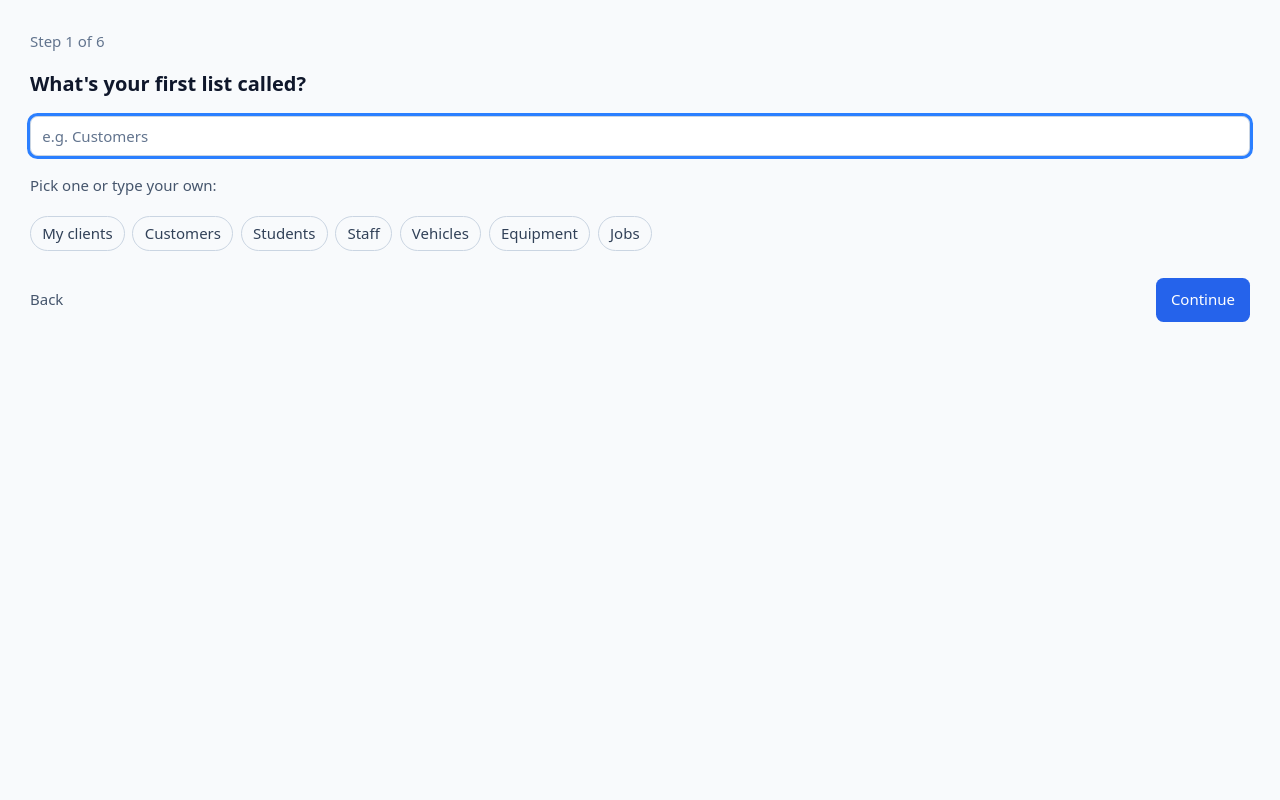
Test: GuidedBlankStart › the date step says why there is no Back (UX-A-20)
The width and height of the screenshot is (1280, 800).
Click the button "Vehicles" at [440, 233], box [400, 216, 481, 251]
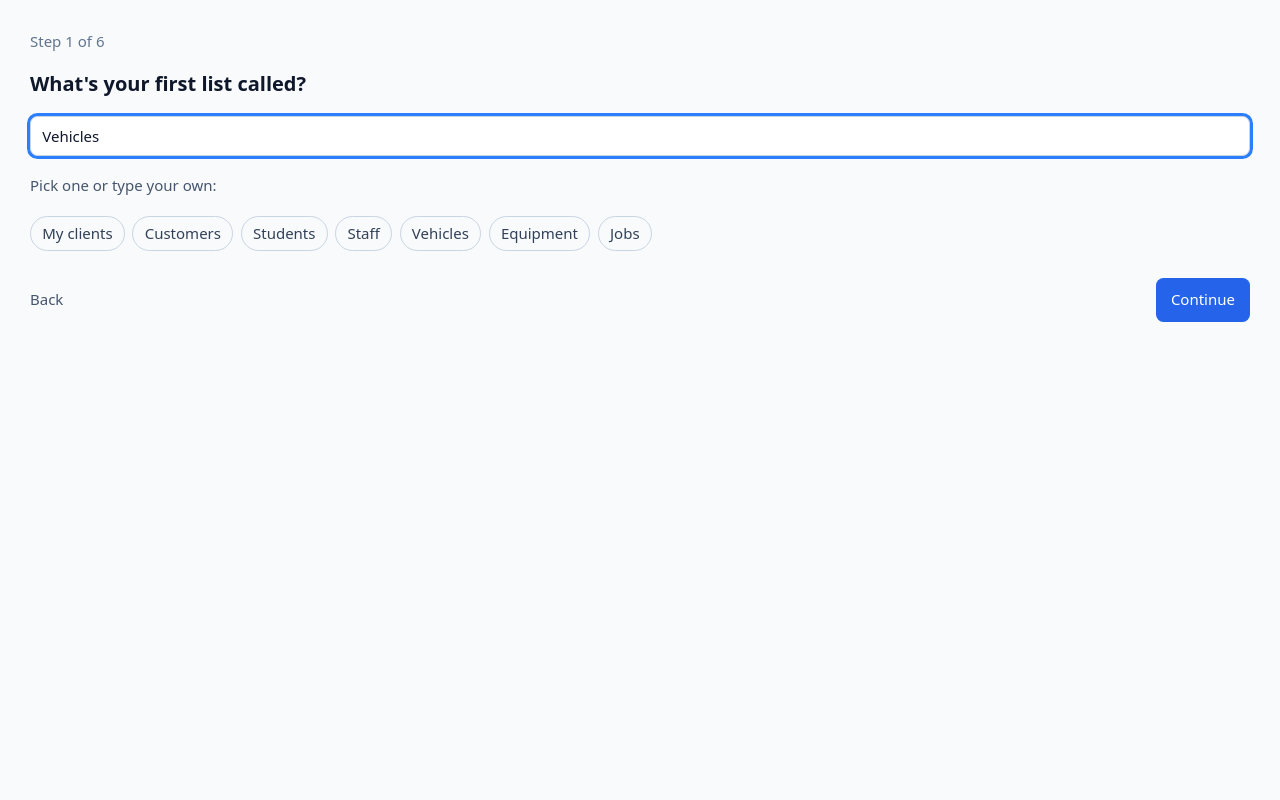
Click the button "Continue" at [1203, 300], box [1156, 278, 1250, 322]
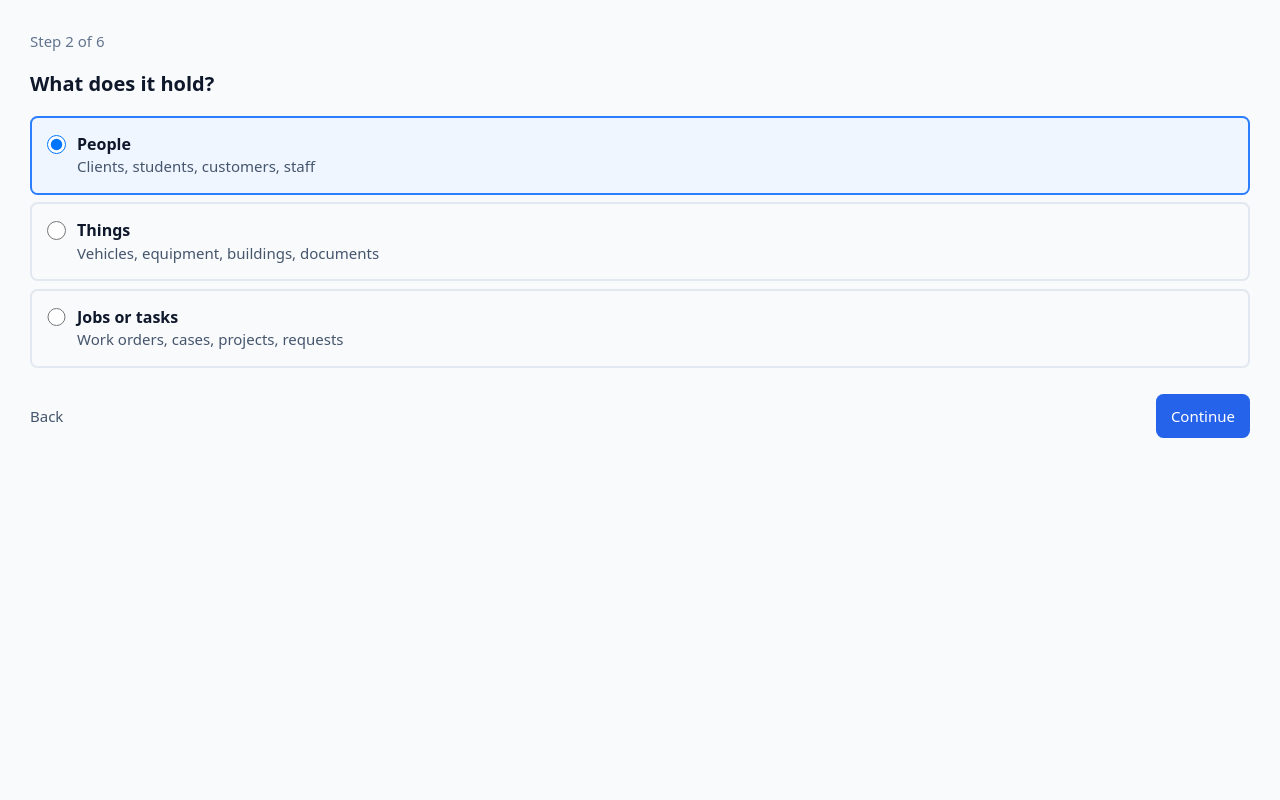
Click the radio button labelled "Things Vehicles, equipment, buildings, documents" at [56, 231], box [47, 221, 66, 240]
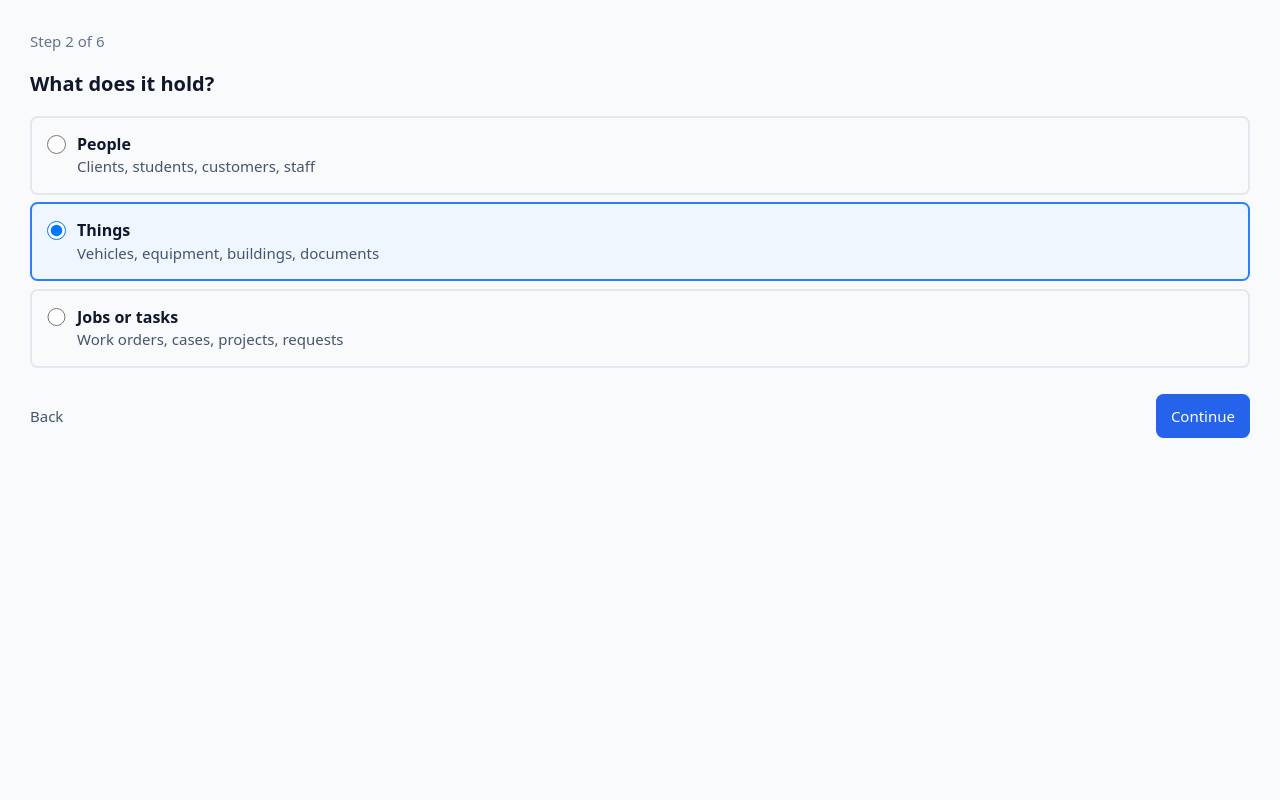
Click the button "Continue" at [1203, 416], box [1156, 394, 1250, 438]
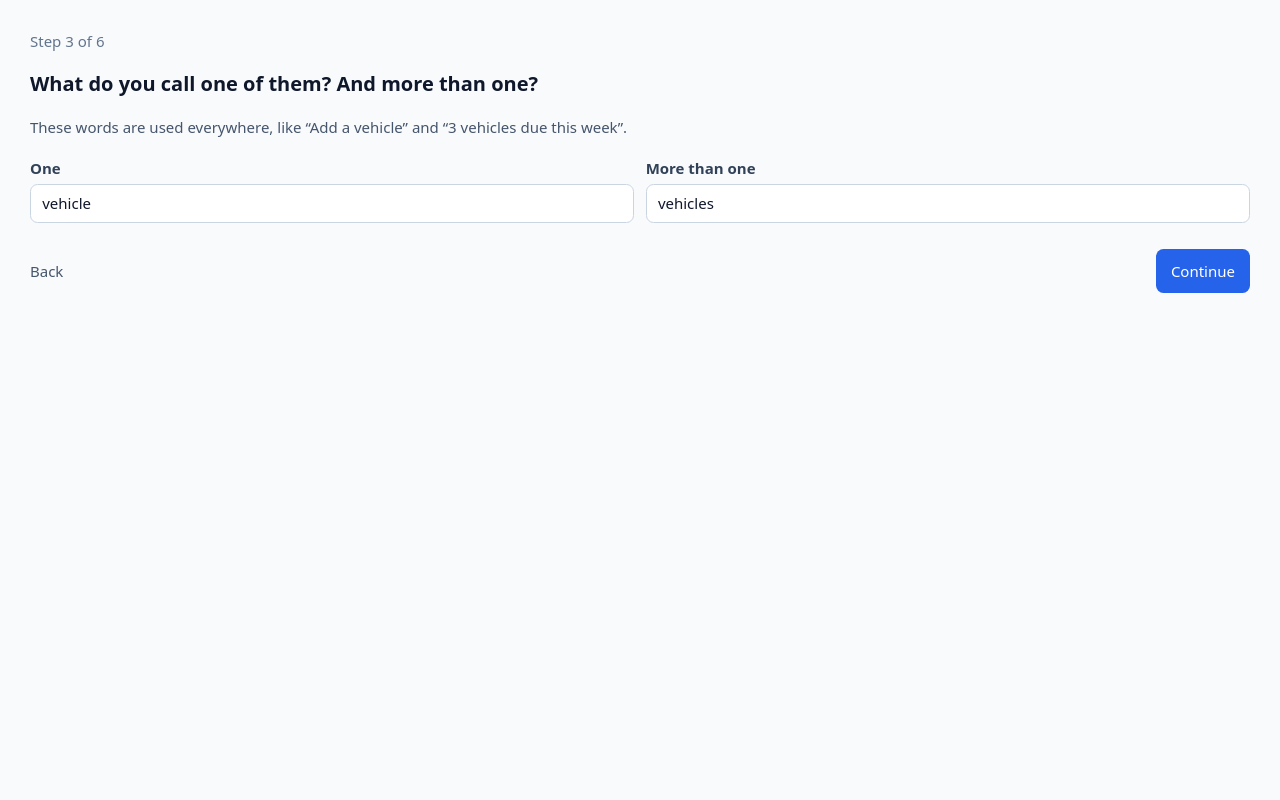
Click the button "Continue" at [1203, 271], box [1156, 249, 1250, 293]
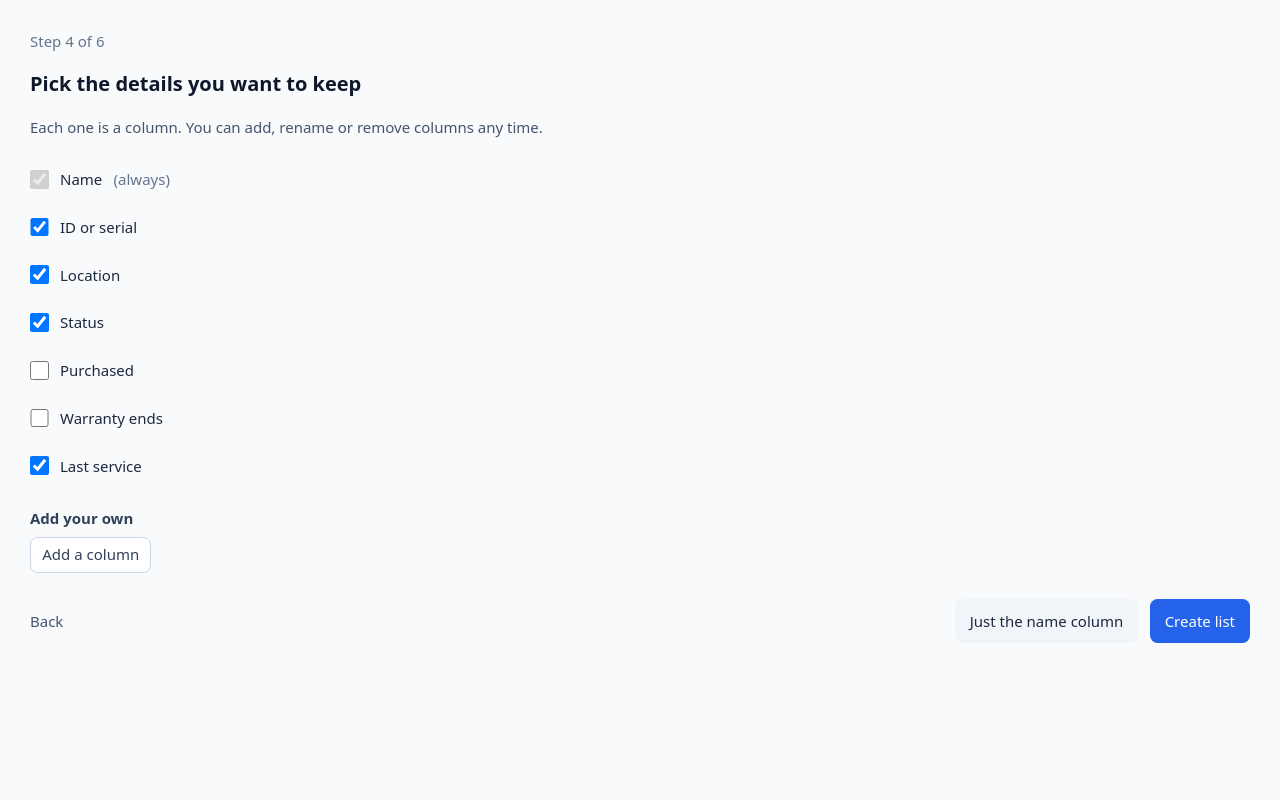
Click the button "Create list" at [1200, 621], box [1150, 599, 1250, 643]
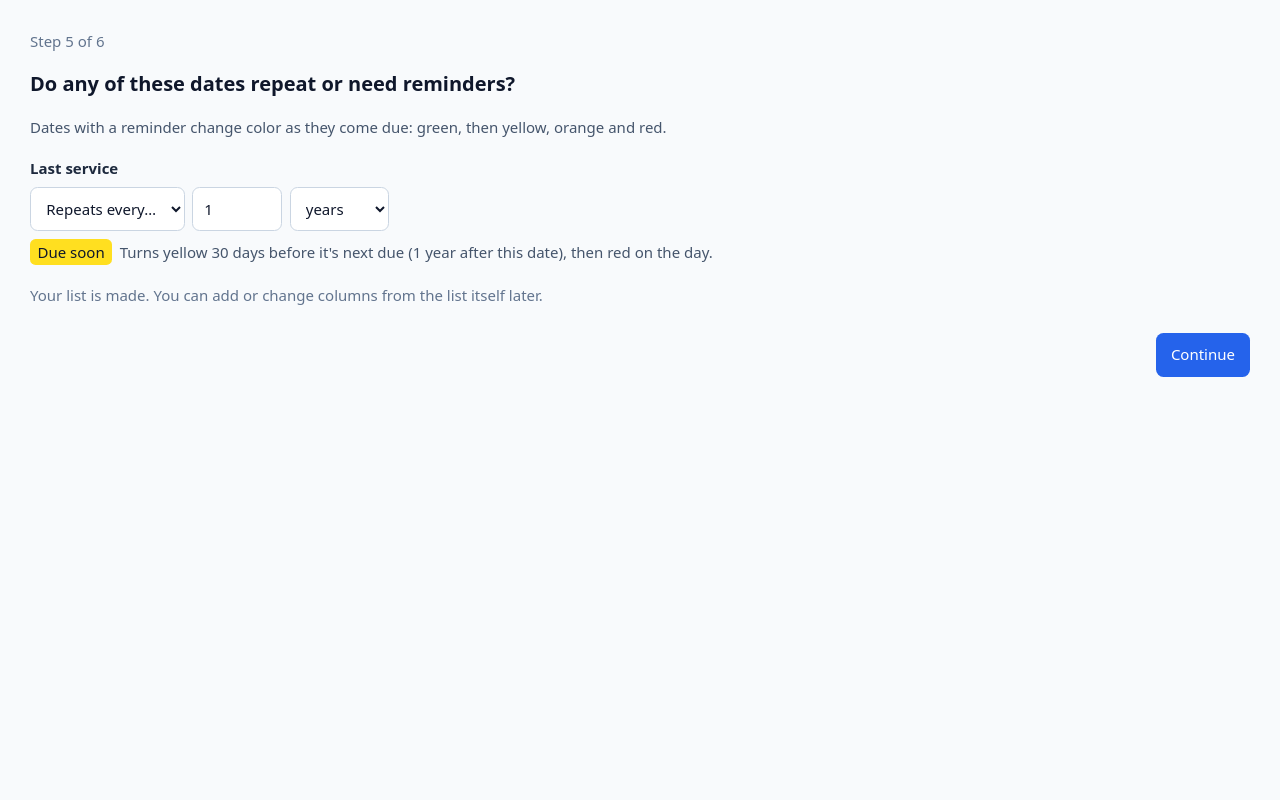
Result: the heading "Do any of these dates repeat or need reminders?" is shown at [30, 70, 515, 97]
Result: the button "Back" is gone
Result: the text "Your list is made" is shown at [30, 285, 543, 305]
